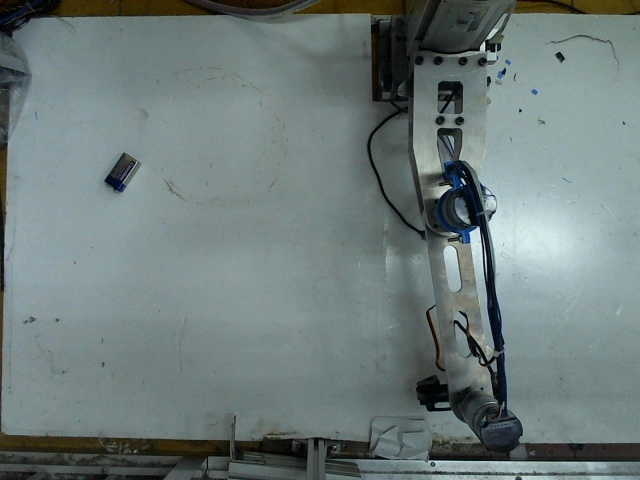battery: (102, 150, 137, 190)
